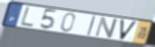0: (60, 12, 77, 33)
5: (38, 8, 60, 32)
I: (86, 15, 97, 37)
L: (19, 6, 35, 29)
N: (93, 16, 120, 40)
V: (119, 18, 139, 41)
